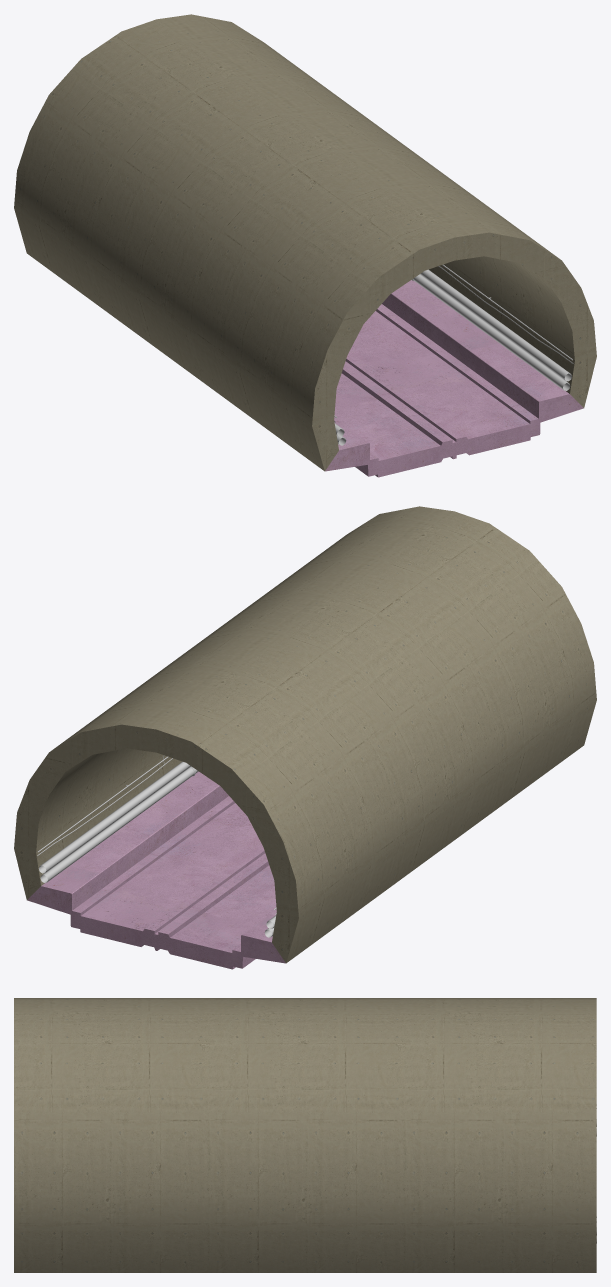
Rendered from 山岭隧道2.fbx.
The picture shows the model from 3 angles, top to bottom: view 1: azimuth 30°, elevation 25°; view 2: azimuth 150°, elevation 25°; view 3: azimuth 270°, elevation 25°; orthographic projection. The views are drawn at different scales.
Visible parts, largest first — view 1: 隧道2_外壳, 隧道2_地面, 隧道2; view 2: 隧道2_外壳, 隧道2_地面, 隧道2; view 3: 隧道2_外壳.
Part boxes in pixels (bbox=[...]): 隧道2_外壳: bbox=[14, 14, 596, 471]; 隧道2_地面: bbox=[325, 280, 583, 477]; 隧道2: bbox=[334, 264, 573, 445]; 隧道2_外壳: bbox=[14, 506, 596, 963]; 隧道2_地面: bbox=[27, 771, 285, 969]; 隧道2: bbox=[37, 755, 276, 937]; 隧道2_外壳: bbox=[14, 998, 596, 1272].
Size of the model in its own units: 24.61 by 18.27 by 44.62.
